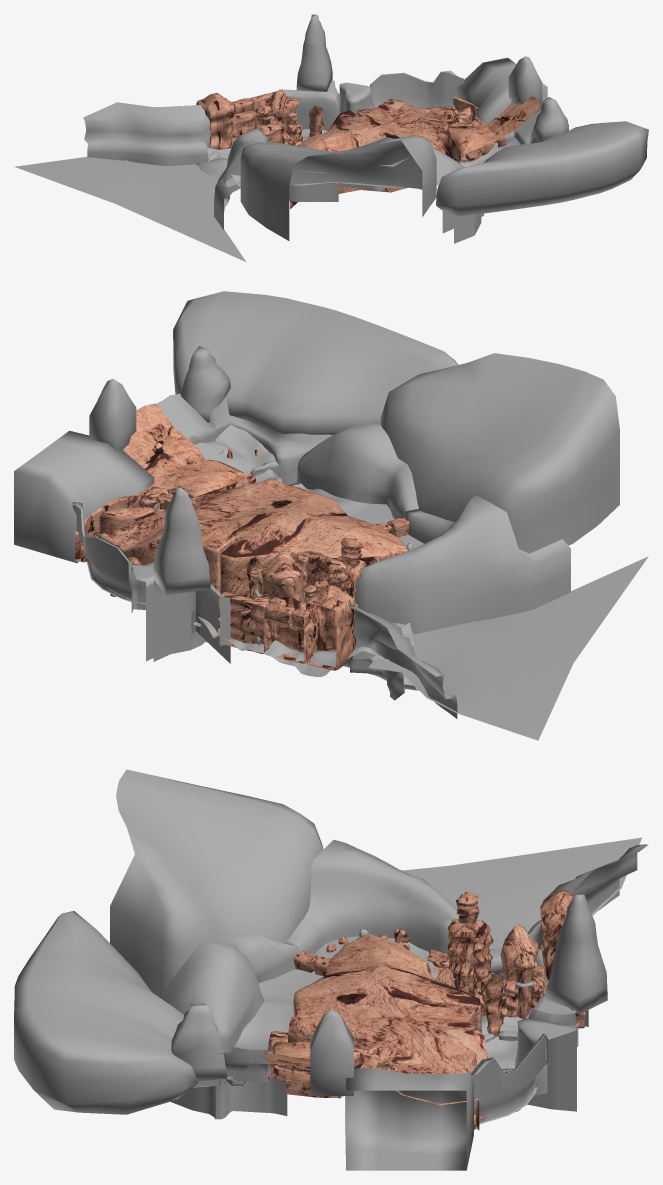
Rendered from CanyonV13.fbx.
3 views of the same model, one above another, from view 1: azimuth 30°, elevation 25°; view 2: azimuth 150°, elevation 25°; view 3: azimuth 270°, elevation 25° (orthographic). The views are drawn at different scales.
Parts seen in each view (by area): view 1: pCube153, pCube152, pPlane1, pCube46, polySurface22, pCube102, pCube154, polySurface13, polySurface23, pCube157, pCube25, rockwall_a00 (+11 smaller); view 2: pCube152, pCube153, polySurface23, pPlane1, polySurface22, pCube154, polySurface9, polySurface13, pCube25, pCube157, pCube46, rockwall_a00 (+15 smaller); view 3: pCube152, pCube153, polySurface22, pCube154, polySurface23, pPlane1, polySurface9, pCube157, pCube47, pCube102, pCube156, polySurface18 (+16 smaller).
Boxes of the visible parts, box(x1,y1,x2,y2) form: pCube153: box(436, 121, 648, 216); pCube152: box(240, 135, 436, 240); pPlane1: box(14, 157, 246, 262); pCube46: box(83, 102, 210, 165); polySurface22: box(290, 99, 455, 208); pCube102: box(370, 70, 464, 108); pCube154: box(457, 57, 547, 128); polySurface13: box(448, 94, 540, 162); polySurface23: box(214, 127, 338, 230); pCube157: box(296, 14, 332, 91); pCube25: box(278, 80, 340, 130); rockwall_a00: box(196, 93, 234, 149); pCube152: box(380, 353, 619, 553); pCube153: box(173, 291, 458, 434); polySurface23: box(354, 495, 570, 633); pPlane1: box(368, 556, 648, 740); polySurface22: box(98, 477, 408, 598); pCube154: box(14, 431, 154, 563); polySurface9: box(297, 424, 418, 519); polySurface13: box(123, 403, 255, 497); pCube25: box(153, 580, 230, 663); pCube157: box(153, 487, 210, 594); pCube46: box(347, 605, 457, 718); rockwall_a00: box(304, 585, 356, 670); pCube152: box(110, 769, 323, 997); pCube153: box(14, 911, 198, 1114); polySurface22: box(288, 934, 487, 1098); pCube154: box(345, 1068, 473, 1170); polySurface23: box(283, 839, 458, 953); pPlane1: box(402, 837, 641, 949); polySurface9: box(160, 932, 297, 1052); pCube157: box(544, 894, 607, 1013); pCube47: box(515, 1018, 576, 1111); pCube102: box(470, 1033, 548, 1124); pCube156: box(310, 1009, 353, 1095); polySurface18: box(230, 969, 323, 1055).
Bounding box in the file's own units: 77800 × 23513 × 63732.
